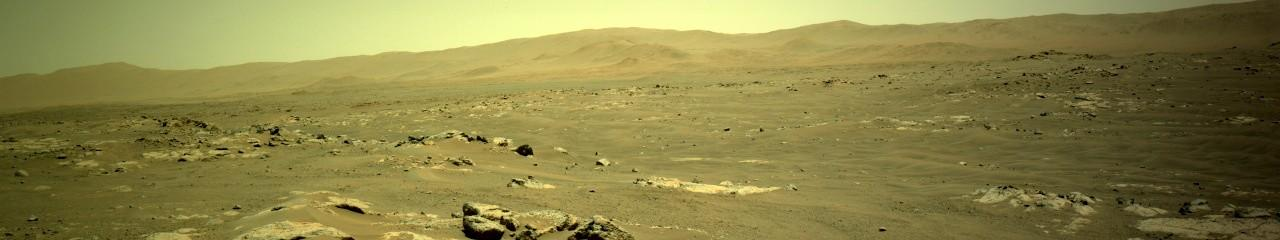bedrock: (13, 84, 648, 238), (492, 21, 1157, 64), (964, 179, 1272, 239), (945, 64, 974, 69), (981, 167, 998, 168)
sand: (612, 210, 634, 232), (104, 229, 137, 235)
soil: (330, 66, 1273, 235), (962, 169, 984, 180)
